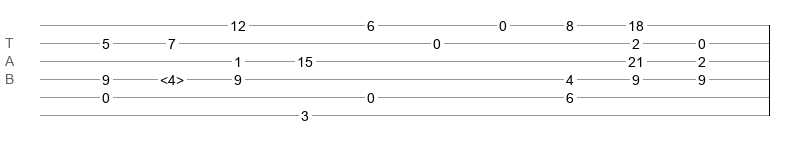0: (102, 90, 110, 100), (367, 90, 375, 100), (433, 36, 441, 46), (499, 18, 507, 28), (698, 36, 706, 46)
1: (234, 54, 242, 64)
12: (230, 18, 246, 28)
15: (297, 54, 313, 64)
18: (628, 18, 644, 28)
2: (632, 36, 640, 46), (698, 54, 706, 64)
21: (628, 54, 644, 64)
3: (301, 108, 309, 118)
4: (566, 72, 574, 82)
5: (102, 36, 110, 46)
6: (367, 18, 375, 28), (566, 90, 574, 100)
7: (168, 36, 176, 46)
8: (566, 18, 574, 28)
9: (102, 72, 110, 82), (234, 72, 242, 82), (632, 72, 640, 82), (698, 72, 706, 82)
harmonic: (160, 72, 184, 82)
